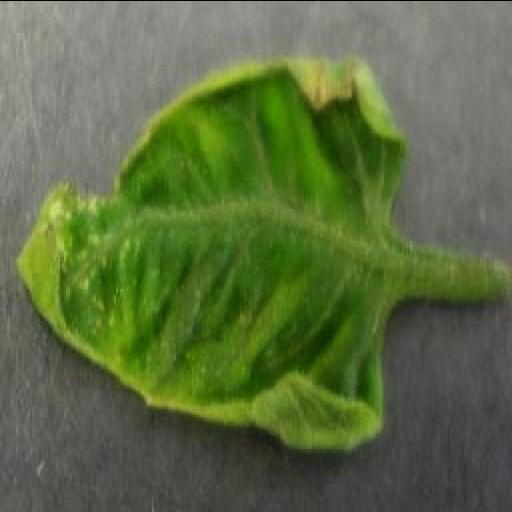disease_tomato: (14, 56, 406, 450)
